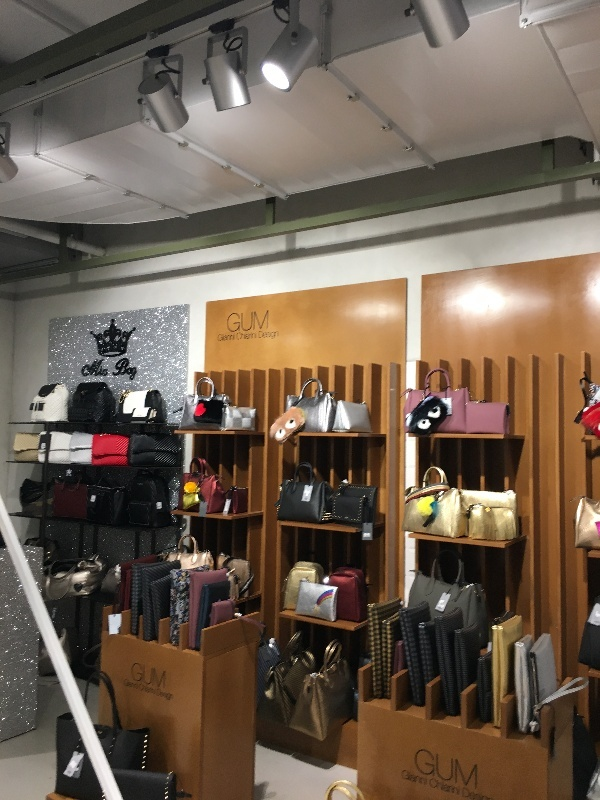text: (417, 746, 432, 789), (433, 746, 448, 789), (449, 746, 464, 789), (465, 746, 478, 789), (145, 662, 160, 689), (241, 310, 256, 333), (132, 662, 144, 689), (227, 310, 240, 333), (433, 777, 448, 796), (257, 310, 269, 333), (402, 769, 416, 786), (82, 360, 96, 377), (118, 359, 128, 382), (129, 359, 139, 382), (449, 777, 461, 796), (97, 360, 108, 377), (417, 769, 427, 786), (161, 689, 174, 702), (465, 787, 479, 798), (241, 332, 257, 341), (161, 662, 166, 689), (145, 684, 156, 696), (258, 331, 272, 340), (129, 679, 139, 689), (225, 333, 236, 342), (218, 333, 224, 342), (273, 331, 279, 340), (140, 684, 144, 696), (157, 689, 160, 702), (430, 777, 432, 796), (237, 332, 240, 341), (126, 679, 128, 689), (463, 787, 464, 798)
